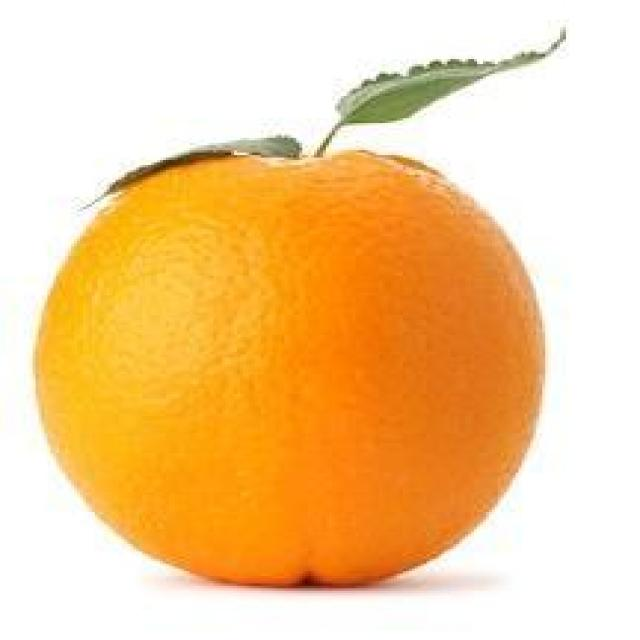Orange: (25, 141, 554, 598)
